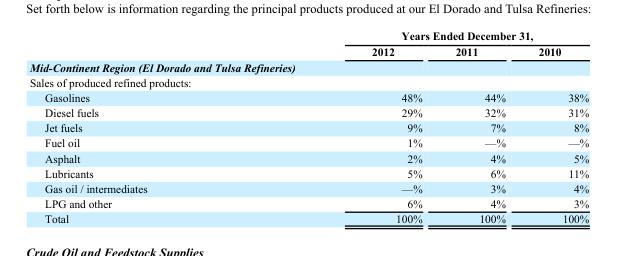table: (28, 28, 588, 224)
table column: (28, 28, 258, 224), (258, 28, 438, 224), (438, 28, 521, 224), (521, 28, 588, 224)
table column header: (28, 28, 588, 59)
table projected row header: (28, 59, 588, 74), (28, 74, 588, 89)
table row: (28, 43, 588, 59), (28, 119, 588, 135), (28, 28, 588, 43), (28, 59, 588, 74), (28, 74, 588, 89), (28, 89, 588, 104), (28, 104, 588, 119), (28, 135, 588, 150), (28, 150, 588, 165), (28, 165, 588, 180), (28, 180, 588, 195), (28, 195, 588, 210), (28, 210, 588, 224)
table spanning cell: (258, 28, 588, 43)
